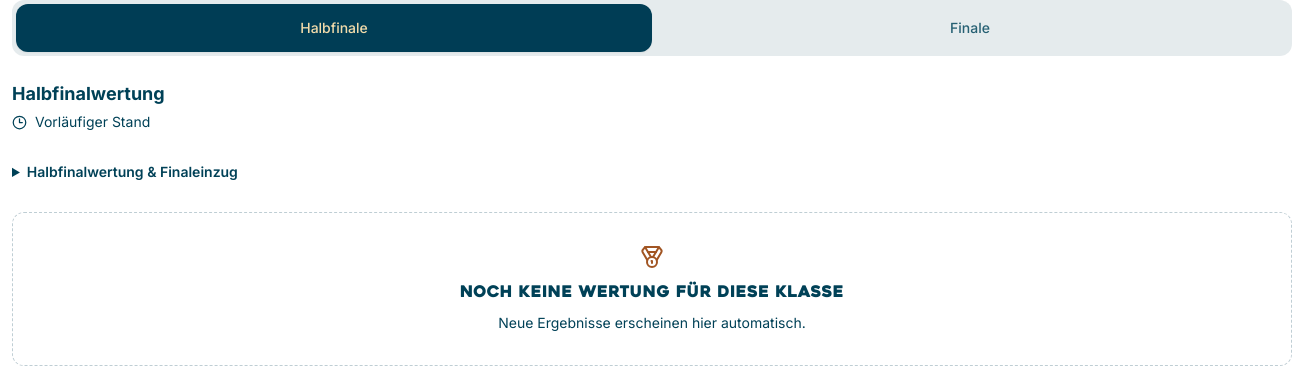
Test: shows the empty state without inventing class choices when no results are available
Expected: the heading "Noch keine Wertung für diese Klasse" is shown, [460,285,844,301]
Press the mouse on the tab "Finale": (970, 28) [652,4,1288,52]
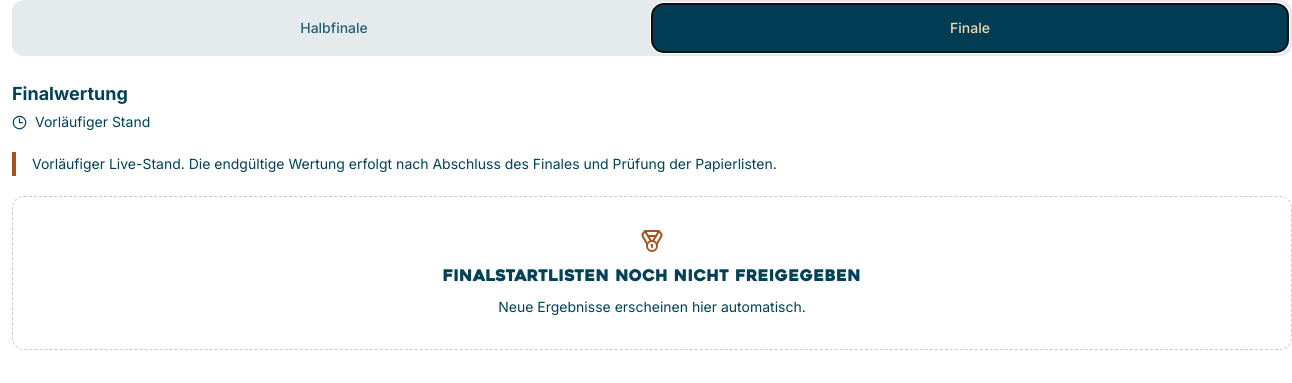
Result: the heading "Finalstartlisten noch nicht freigegeben" is shown at [443,269,861,285]
